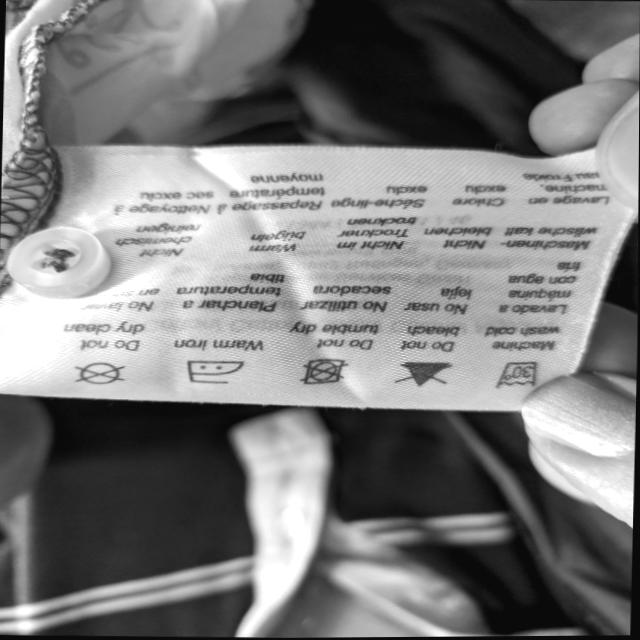30C: (496, 358, 541, 388)
DN_bleach: (396, 360, 454, 386)
DN_dry_clean: (75, 359, 128, 388)
DN_tumble_dry: (301, 356, 351, 386)
iron_medium: (185, 358, 246, 386)
